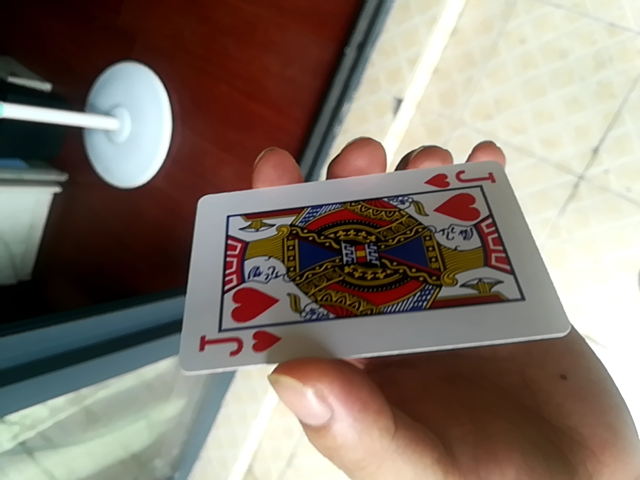hx j: (181, 155, 559, 378)
